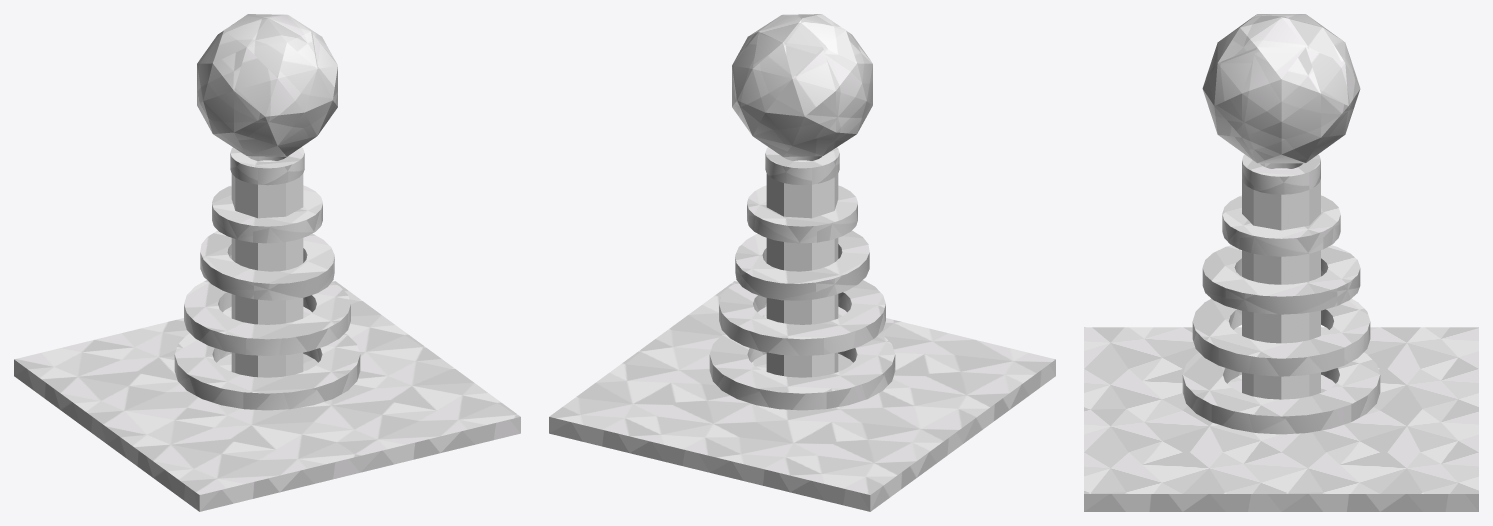
The model's file is teslaTower1.obj.
The picture shows the model from 3 angles, left to right: view 1: azimuth 30°, elevation 25°; view 2: azimuth 150°, elevation 25°; view 3: azimuth 270°, elevation 25°; orthographic projection. The views are drawn at different scales.
Bounding box in the file's own units: 2 × 2.3 × 2.
Materials: 2 (1 with a texture image).
